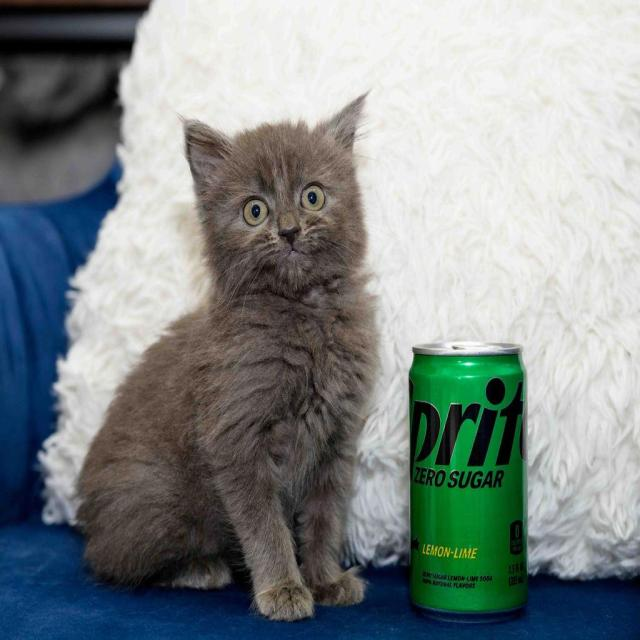manx_cat: (172, 78, 388, 316)
